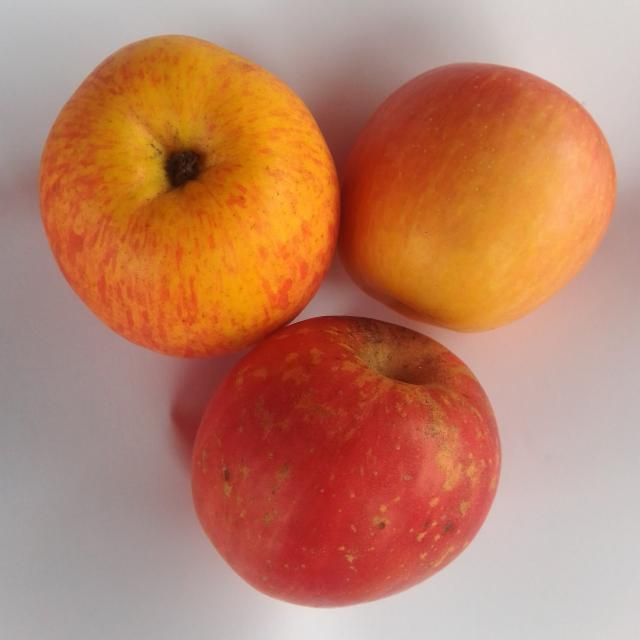Fresh Apple: (51, 32, 342, 365), (198, 315, 495, 605), (348, 49, 617, 324)
